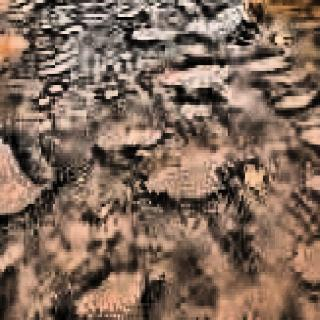pothole: (125, 60, 303, 206), (66, 269, 166, 320), (0, 133, 39, 222)
